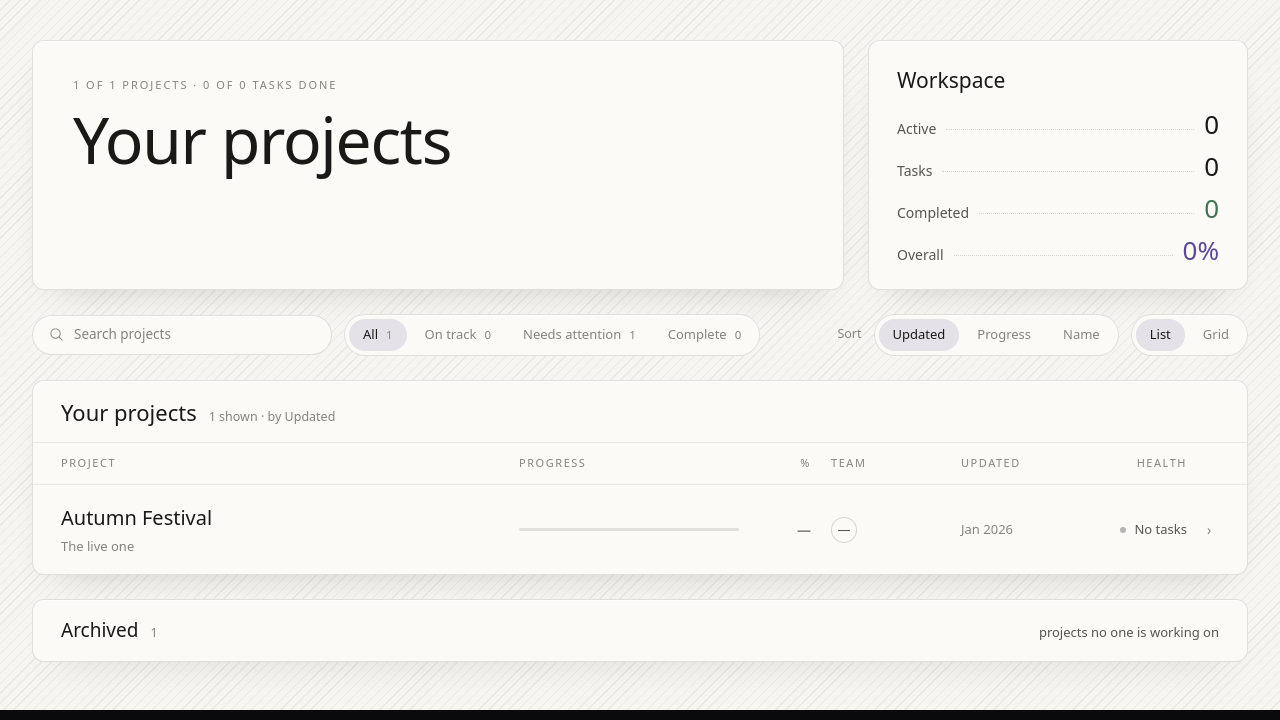
it: the project archive › offers a way into the archive, counted
Click the button "Archived 1 projects no one is working on" at (100, 630), box [33,600,1247,661]
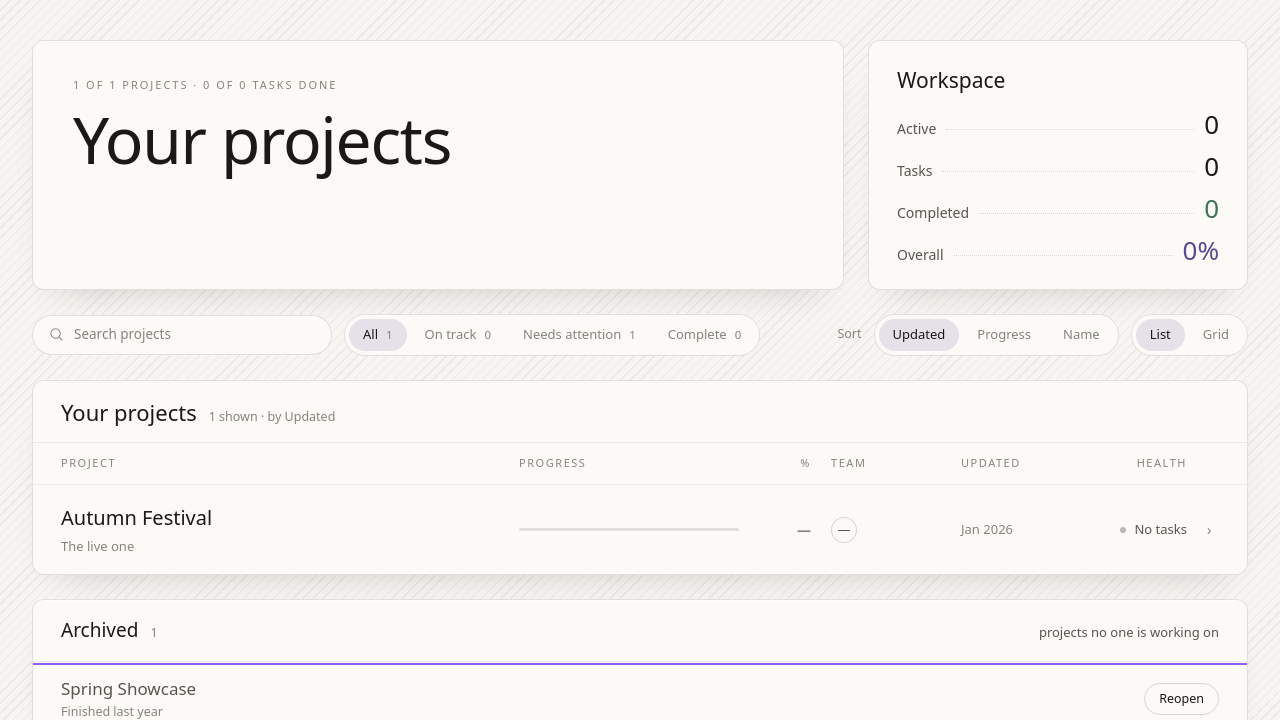
Check: the text "Spring Showcase" is shown, box [61,677,196,700]
